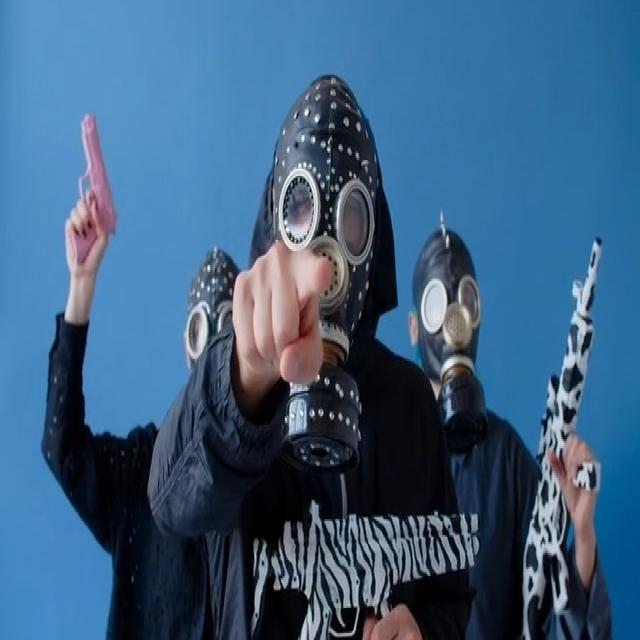Gun_Holder: (490, 206, 640, 640), (41, 88, 142, 292)
Person: (146, 60, 463, 640), (409, 180, 613, 640)
